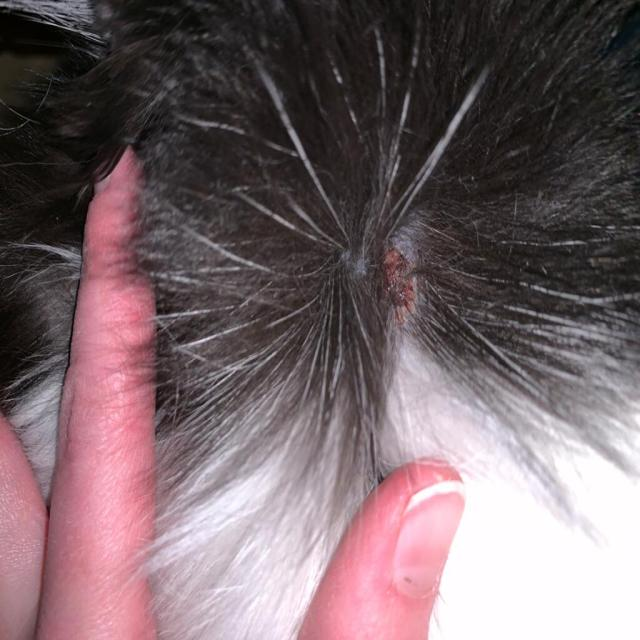cat-dermatitis: (379, 243, 422, 331)
